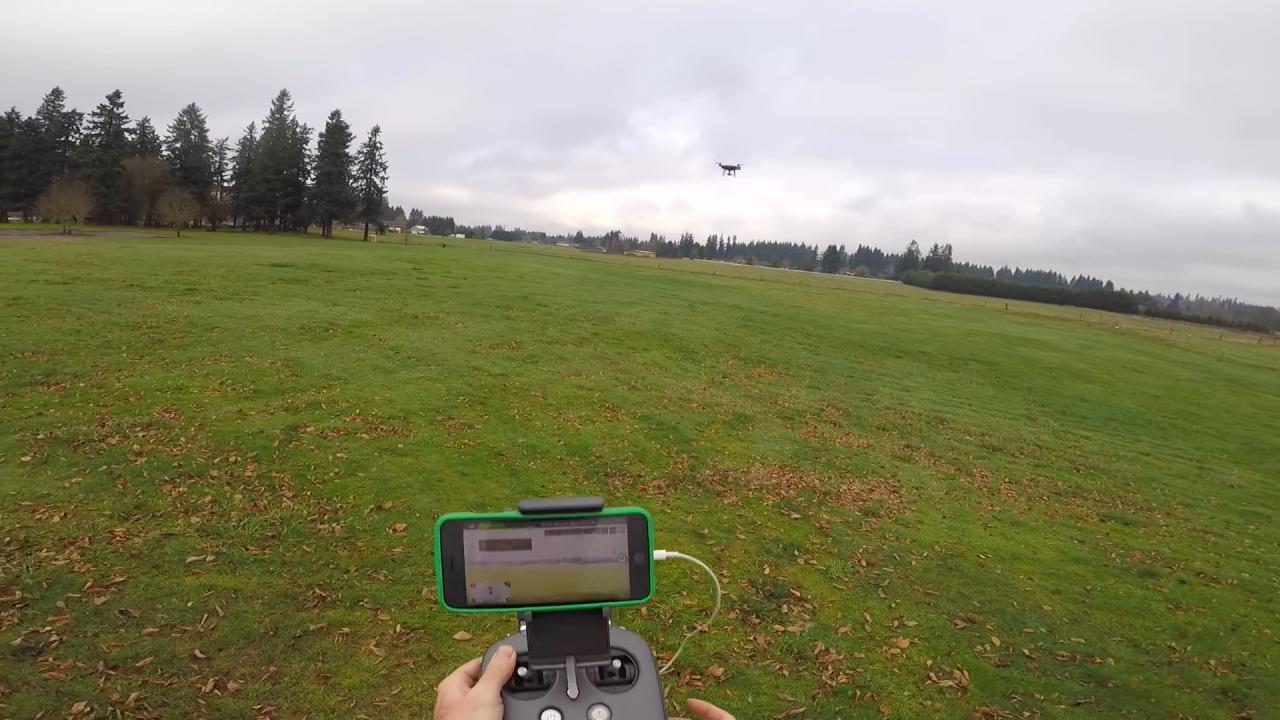Drone: (709, 152, 749, 185)
